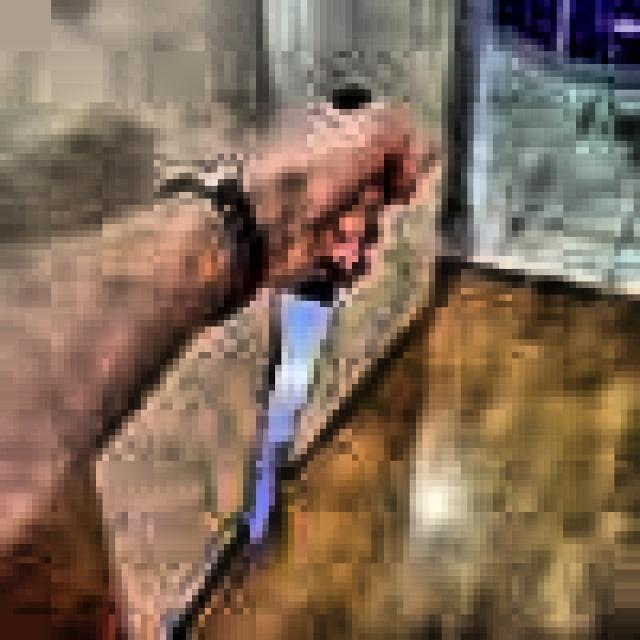knife: (246, 94, 368, 562)
